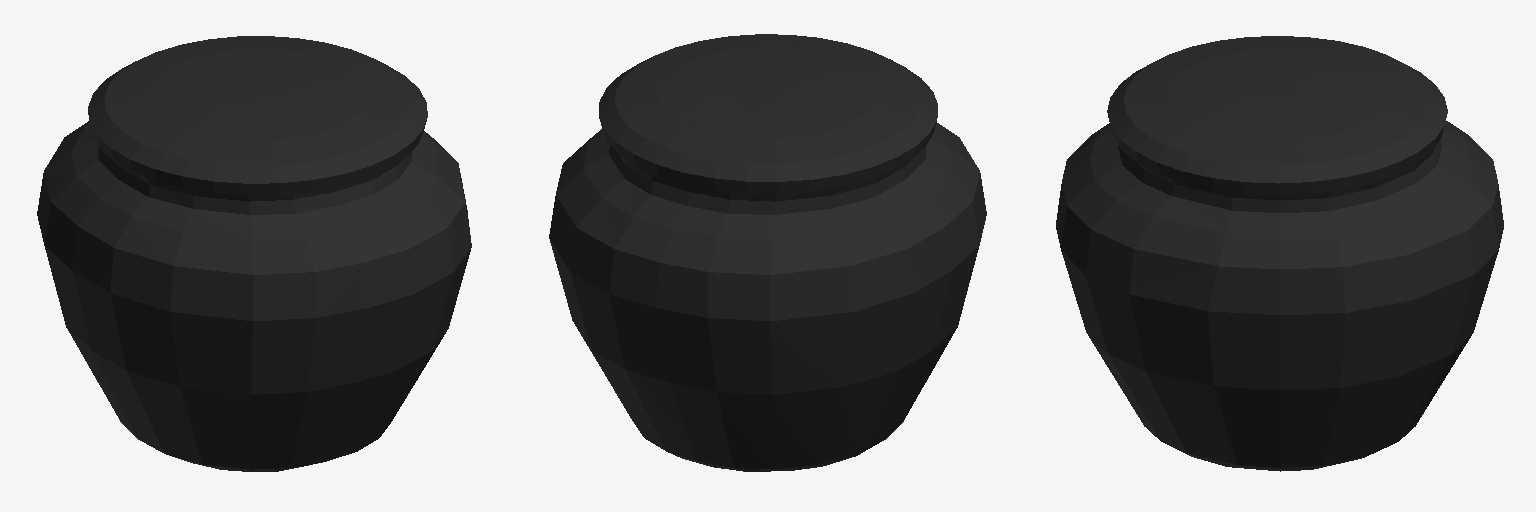
Rendered from Honey.obj.
3 views of the same model, side by side, from view 1: azimuth 30°, elevation 25°; view 2: azimuth 150°, elevation 25°; view 3: azimuth 270°, elevation 25° (orthographic).
Size of the model in its own units: 0.3506 by 0.302 by 0.3708.